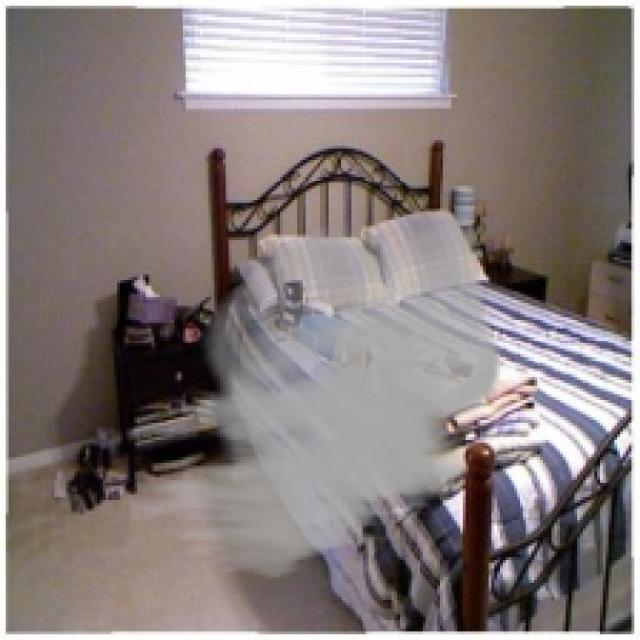smoke: (126, 211, 503, 583)
